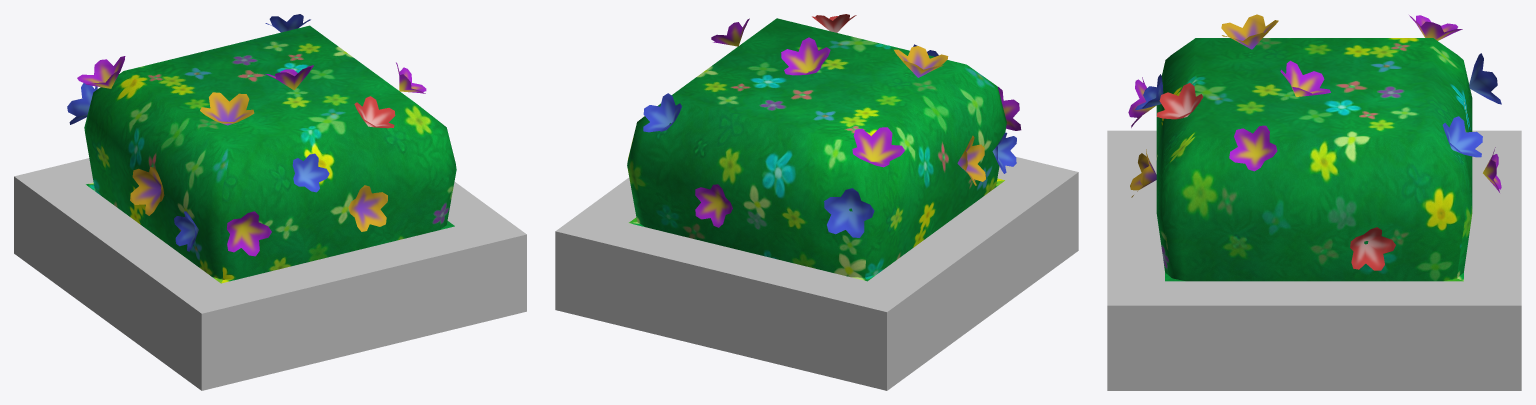
The model's file is Plant04_a01.FBX.
3 renders of one model, left to right at view 1: azimuth 30°, elevation 25°; view 2: azimuth 150°, elevation 25°; view 3: azimuth 270°, elevation 25°, orthographic. The views are drawn at different scales.
Visible parts, largest first — view 1: Plant04_a01; view 2: Plant04_a01; view 3: Plant04_a01.
Boxes of the visible parts, x1,y1,x2,y2 form: Plant04_a01: (14, 14, 526, 390); Plant04_a01: (555, 14, 1078, 390); Plant04_a01: (1107, 14, 1521, 390).
Bounding box in the file's own units: 208 × 135 × 208.
